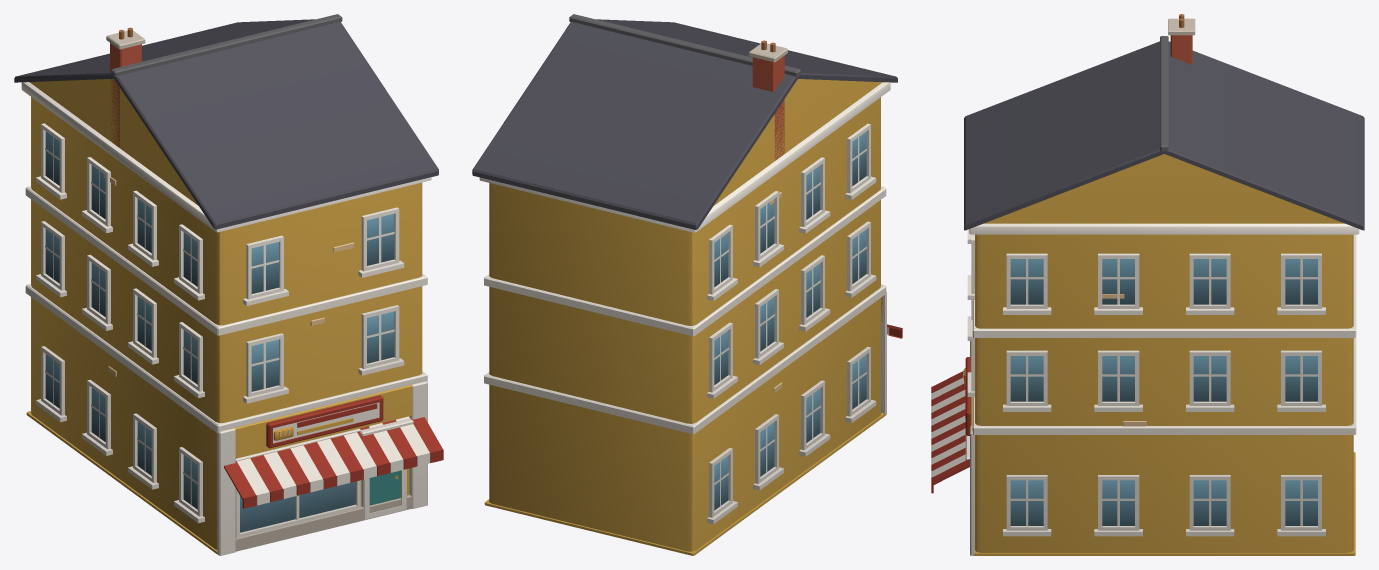
Rendered from beacon_n14.glb.
3 renders of one model, left to right at view 1: azimuth 30°, elevation 25°; view 2: azimuth 150°, elevation 25°; view 3: azimuth 270°, elevation 25°, orthographic.
Parts seen in each view (by area): view 1: beacon_n14; view 2: beacon_n14; view 3: beacon_n14.
Part boxes in pixels (<box>): beacon_n14: <box>14,14,443,555</box>; beacon_n14: <box>472,14,902,555</box>; beacon_n14: <box>931,14,1364,555</box>.
Bounding box in the file's own units: 8.3 × 15.5 × 13.74.
Materials: 1 (1 with a texture image).
